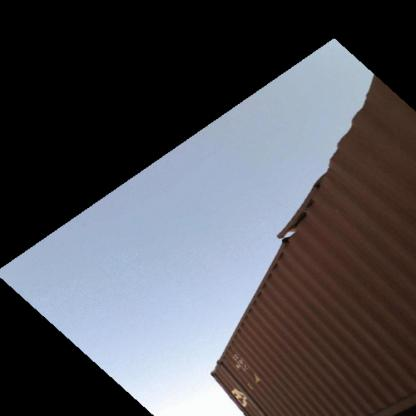Damage: (269, 172, 362, 267)
